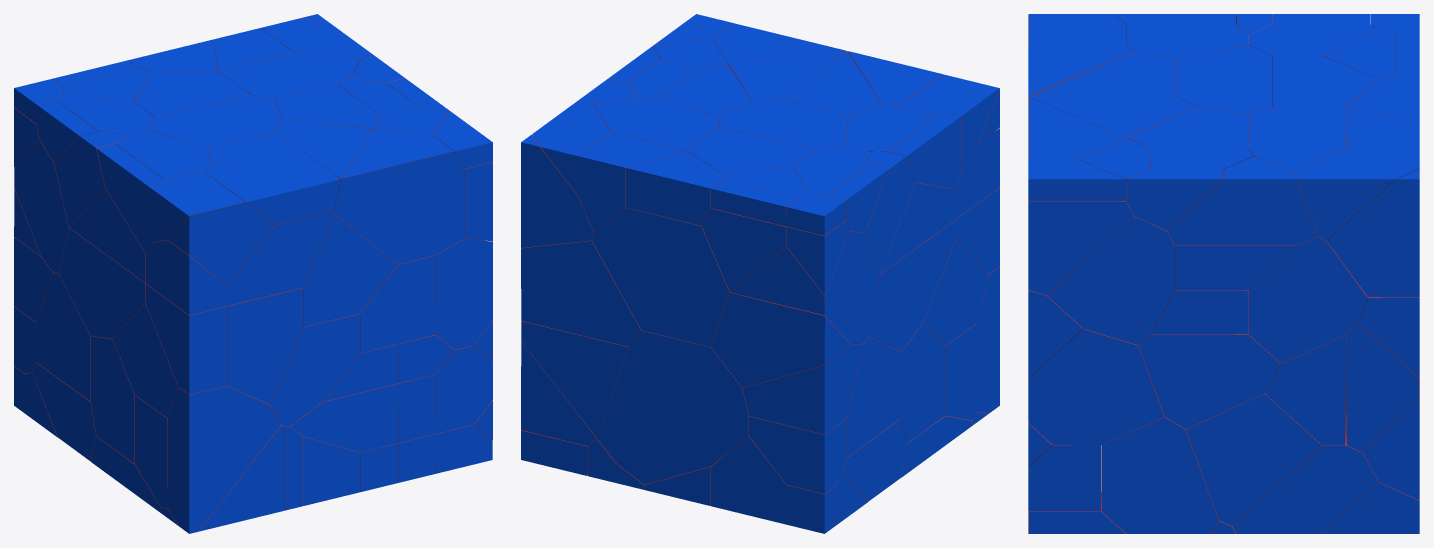
The model's file is cube-explotion.glb.
The picture shows the model from 3 angles, left to right: view 1: azimuth 30°, elevation 25°; view 2: azimuth 150°, elevation 25°; view 3: azimuth 270°, elevation 25°; orthographic projection. The views are drawn at different scales.
Parts seen in each view (by area): view 1: Cube_cell.040, Cube_cell.006, Cube_cell.015, Cube_cell.073, Cube_cell.019, Cube_cell.079, Cube_cell.066, Cube_cell.095, Cube_cell.051, Cube_cell.049, Cube_cell.055, Cube_cell.085 (+51 smaller); view 2: Cube_cell.039, Cube_cell.086, Cube_cell.044, Cube_cell.093, Cube_cell.065, Cube_cell.063, Cube_cell.079, Cube_cell.045, Cube_cell.038, Cube_cell.032, Cube_cell.021, Cube_cell.009 (+43 smaller); view 3: Cube_cell.056, Cube_cell.080, Cube_cell.098, Cube_cell.082, Cube_cell.091, Cube_cell.011, Cube_cell.052, Cube_cell.045, Cube_cell, Cube_cell.024, Cube_cell.094, Cube_cell.050 (+33 smaller).
Part boxes in pixels (x1,y1,x2,y2): Cube_cell.040: (167,385,280,533); Cube_cell.006: (332,152,464,264); Cube_cell.015: (227,288,302,404); Cube_cell.073: (303,214,397,327); Cube_cell.019: (270,313,359,426); Cube_cell.079: (59,227,145,338); Cube_cell.066: (435,238,492,349); Cube_cell.095: (145,284,226,394); Cube_cell.051: (225,211,334,305); Cube_cell.049: (168,202,274,285); Cube_cell.055: (290,384,397,452); Cube_cell.085: (203,164,340,224); Cube_cell.039: (597,330,748,484); Cube_cell.086: (592,207,731,346); Cube_cell.044: (521,240,641,346); Cube_cell.093: (711,292,851,387); Cube_cell.065: (521,321,628,437); Cube_cell.063: (742,343,863,434); Cube_cell.079: (869,219,955,351); Cube_cell.045: (521,134,593,247); Cube_cell.038: (625,151,722,225); Cube_cell.032: (749,416,846,493); Cube_cell.021: (578,132,685,232); Cube_cell.009: (846,337,901,457); Cube_cell.056: (1028,329,1164,445); Cube_cell.080: (1102,416,1218,533); Cube_cell.098: (1047,216,1174,344); Cube_cell.082: (1248,236,1367,363); Cube_cell.091: (1186,393,1321,525); Cube_cell.011: (1138,290,1280,428); Cube_cell.052: (1167,156,1317,245); Cube_cell.045: (1327,169,1419,297); Cube_cell: (1232,414,1378,533); Cube_cell.024: (1291,148,1419,240); Cube_cell.094: (1028,201,1133,295); Cube_cell.050: (1346,323,1419,452).
Bounding box in the file's own units: 2 × 2 × 2.
